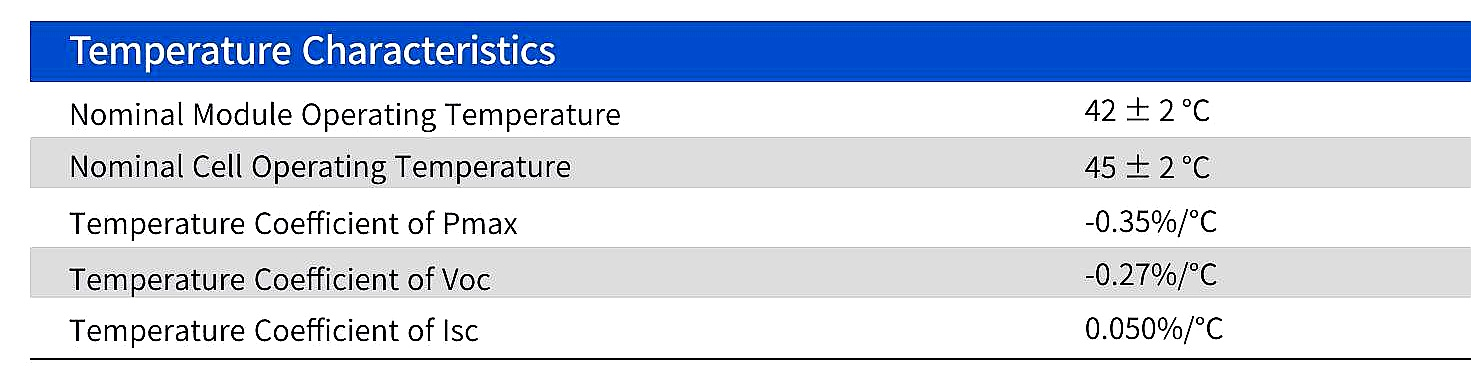table: (16, 9, 1471, 366)
table column: (37, 18, 843, 357), (842, 15, 1463, 358)
table name: (32, 20, 1466, 78)
table row: (24, 20, 1466, 83), (29, 301, 1468, 360), (22, 189, 1469, 247), (24, 82, 1466, 137), (26, 248, 1468, 301), (21, 138, 1466, 187)
table row header: (35, 19, 842, 355)
table spanning cell: (34, 20, 1471, 82)
